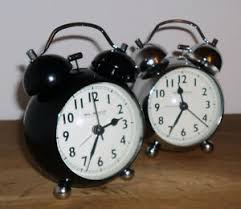alarm_clock: (23, 20, 153, 197), (23, 27, 153, 197), (23, 20, 145, 197)
